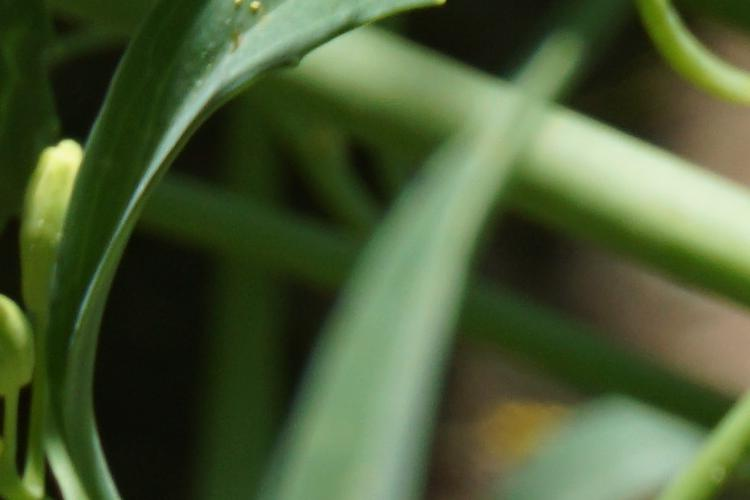bud: (19, 147, 82, 315), (1, 295, 35, 395)
